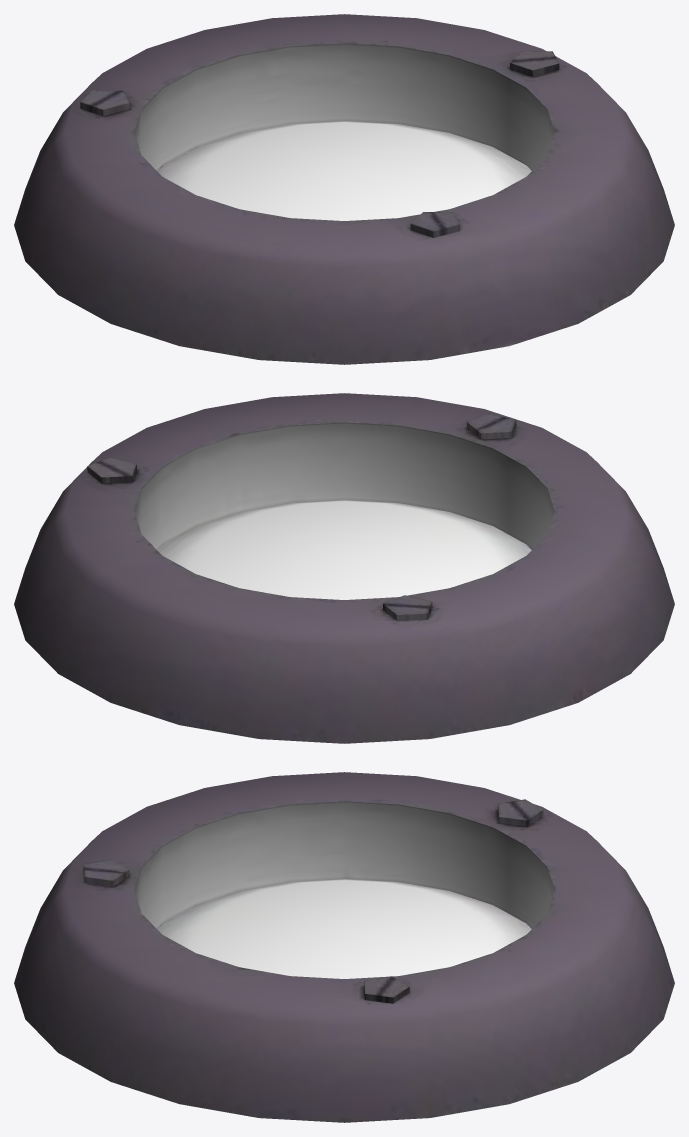
3 renders of one model, top to bottom at view 1: azimuth 30°, elevation 25°; view 2: azimuth 150°, elevation 25°; view 3: azimuth 270°, elevation 25°, orthographic.
Parts seen in each view (by area): view 1: body0_model0_lod0_mesh0; view 2: body0_model0_lod0_mesh0; view 3: body0_model0_lod0_mesh0.
Boxes of the visible parts, x1,y1,x2,y2 form: body0_model0_lod0_mesh0: (14,14,674,364); body0_model0_lod0_mesh0: (14,393,674,743); body0_model0_lod0_mesh0: (14,772,674,1122).
Size of the model in its own units: 33.68 by 5.58 by 33.68.
Materials: 1 (1 with a texture image).
